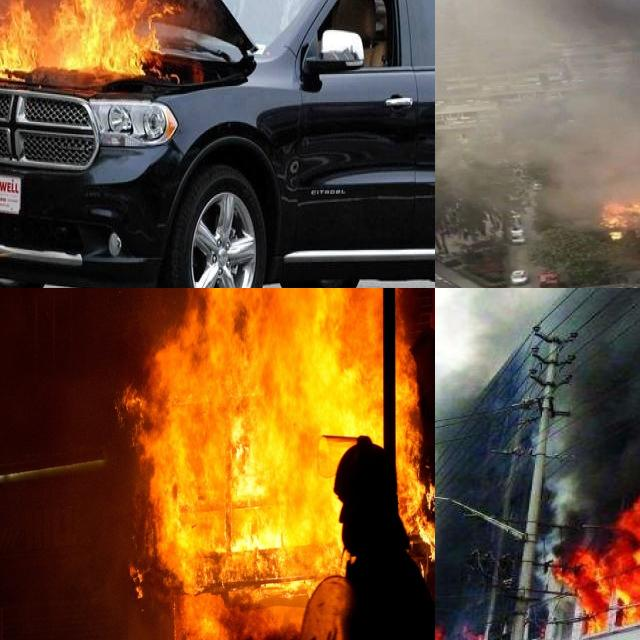fire: (138, 288, 435, 635), (546, 442, 640, 634), (0, 0, 187, 95), (592, 174, 640, 241), (435, 624, 486, 640)
smoke: (435, 0, 640, 230), (478, 288, 640, 533), (435, 288, 511, 625)
